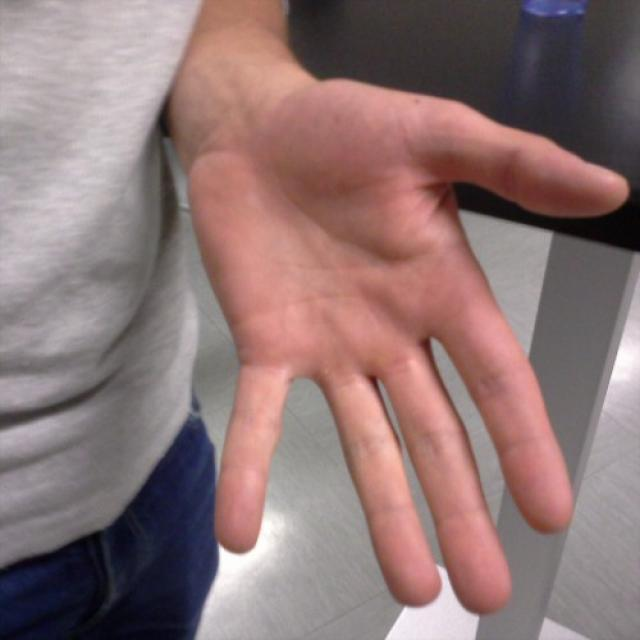paper: (208, 81, 632, 614)
